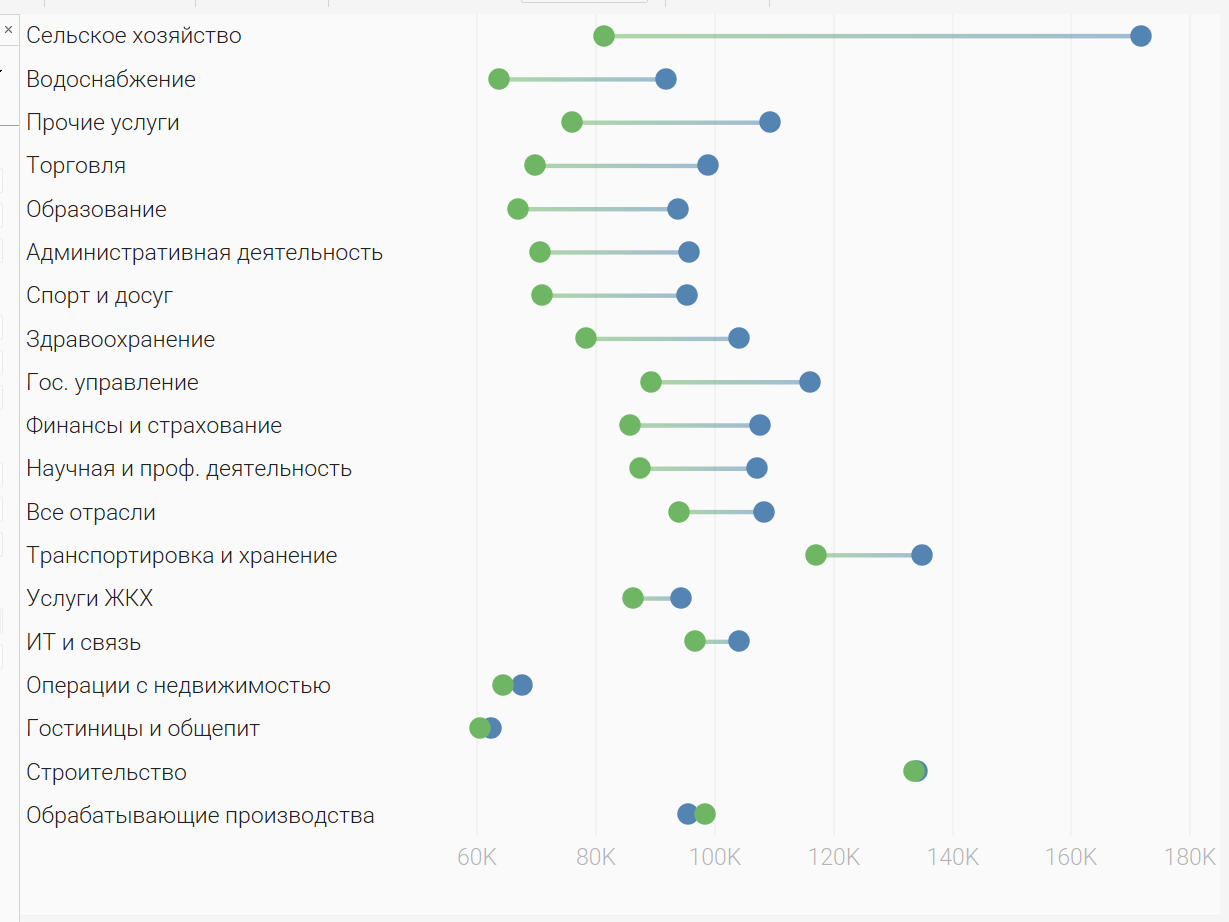

This screenshot's page, from the dashboard's own definition file:
{"tool":"tableau","page":{"name":"Dashboard 2","canvas":[1200,1000],"ordinal":1},"visuals":[{"type":"worksheet","title":"колбаса","mark":"GanttBar","rows":["product"],"cols":["value_other","value_target"],"box":[0,0,1200,159]},{"type":"worksheet","title":"куры","mark":"GanttBar","rows":["product"],"cols":["value_other","value_target"],"box":[0,159,1200,148]}]}

Visuals, with their boxes on the page's 1200x1000 design canvas (x1, y1, x2, y2). These are canvas units, not pixel positions in the 1229x922 screenshot, which may show the page scaled, cropped or inside an application window:
"колбаса" worksheet (GanttBar marks): <region>0, 0, 1200, 159</region>
"куры" worksheet (GanttBar marks): <region>0, 159, 1200, 307</region>
